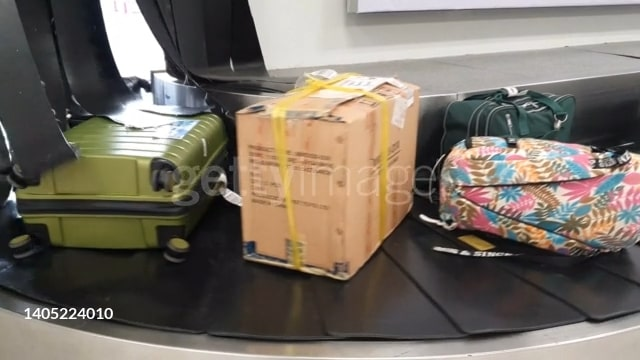baggage: (230, 64, 421, 276), (9, 93, 229, 275), (437, 136, 640, 268), (444, 88, 581, 169)
